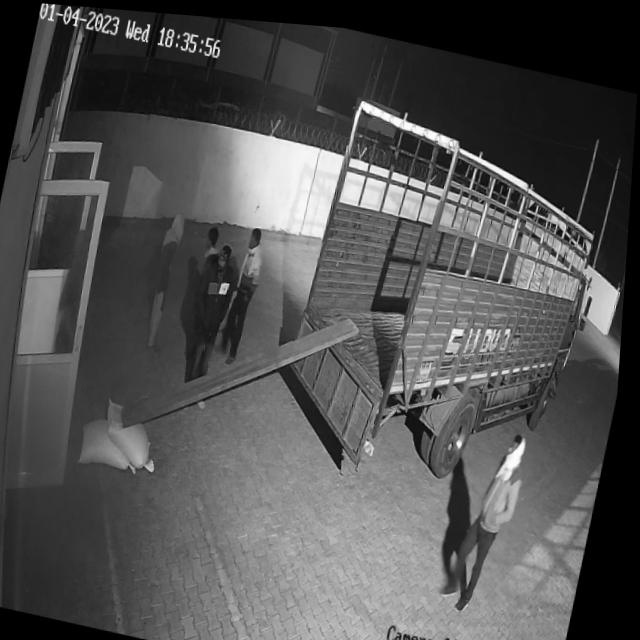sack: (101, 393, 173, 469), (81, 411, 150, 472)
